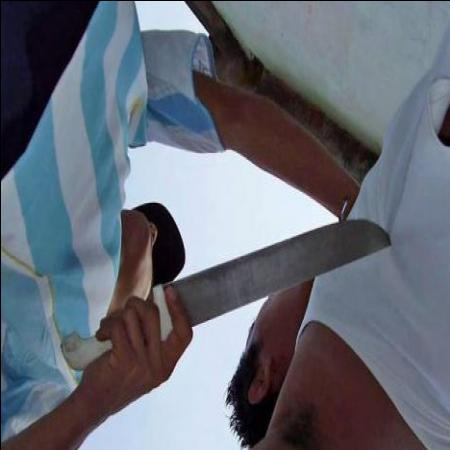long weapon: (52, 214, 397, 382)
